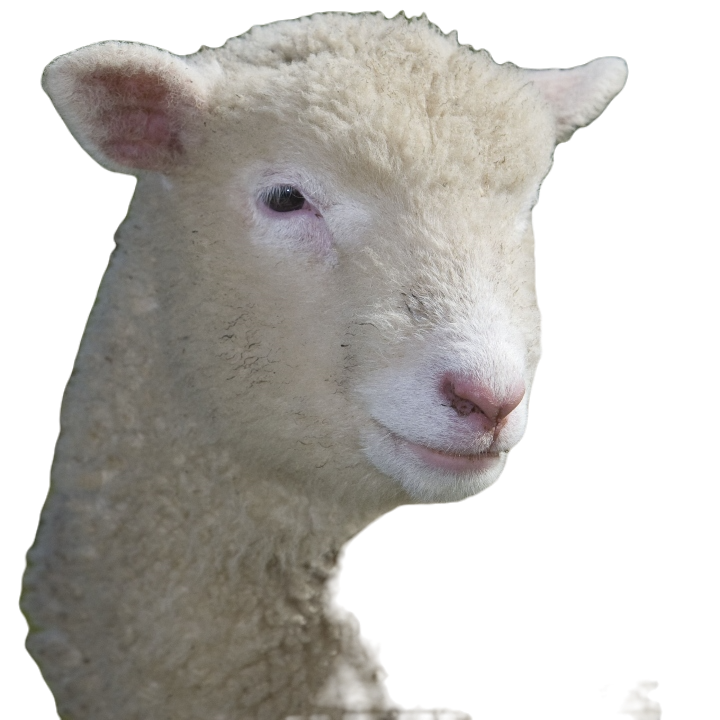Sheep: (16, 5, 634, 719)
